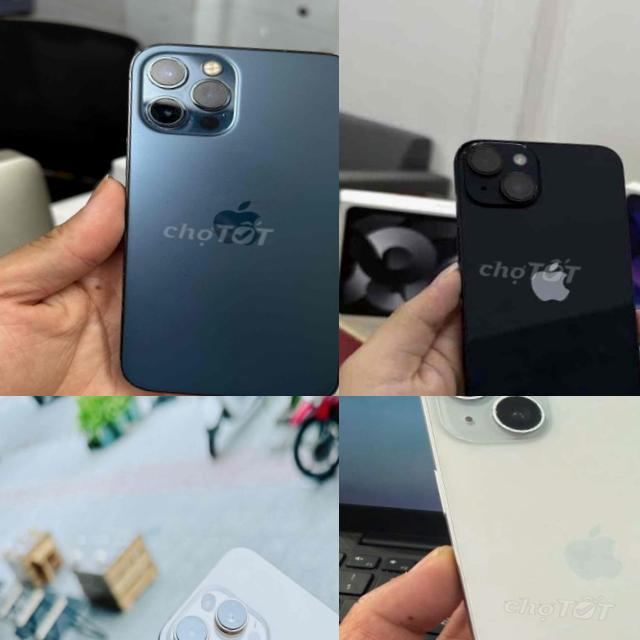gen_12_13: (89, 20, 339, 396)
gen_14: (423, 121, 640, 396)
gen_15: (367, 396, 640, 640)
gen_16: (129, 536, 339, 640)
